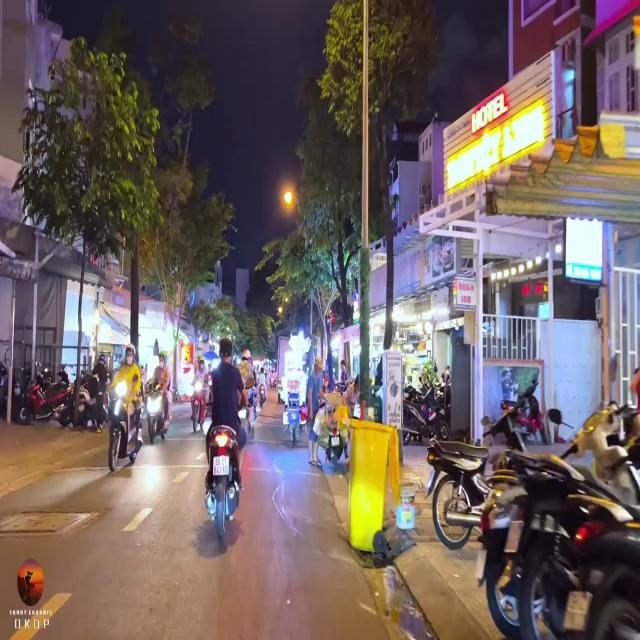bien_trang: (212, 458, 229, 478)
